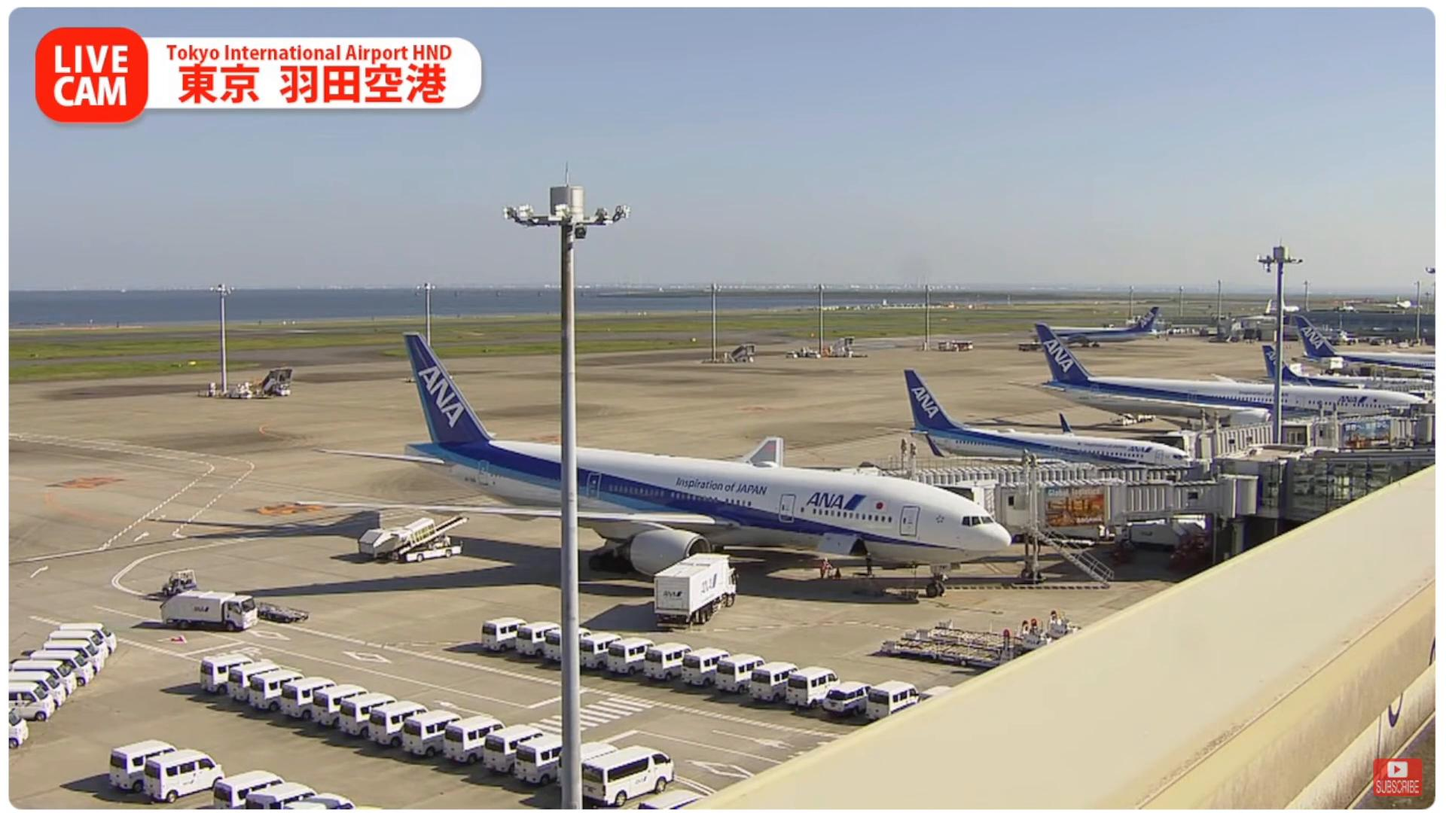Aerobridge: (905, 463, 1198, 520), (990, 479, 1258, 532)
Airplane: (308, 328, 1018, 600)
Baggage truck: (158, 589, 261, 632), (354, 528, 414, 563)
Catering: (654, 554, 740, 632)
Dolly: (262, 603, 316, 623)
JCPL: (872, 632, 1014, 673), (914, 619, 1051, 650)
Skyloader: (388, 512, 472, 564)
Tractor: (160, 573, 194, 601)
Window: (1281, 462, 1437, 524)
